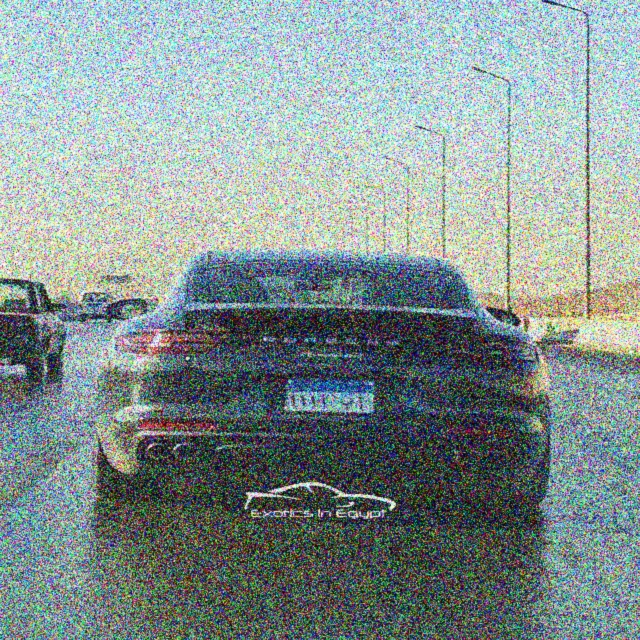License Plate: (282, 375, 378, 416)
